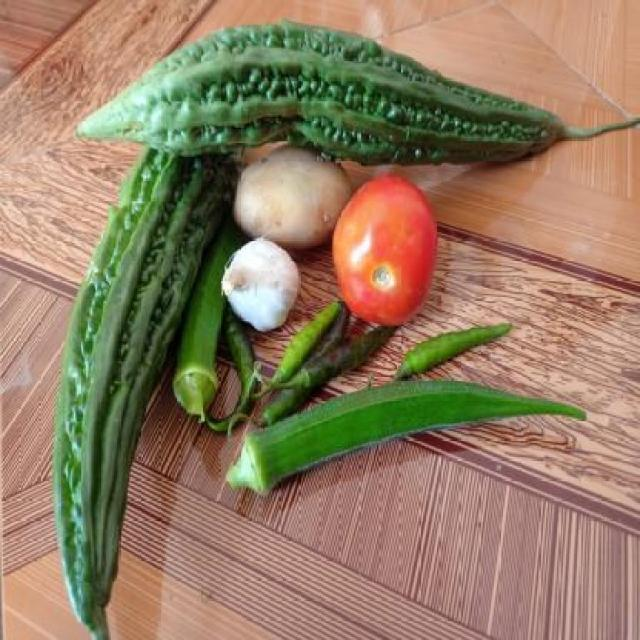Bitter melon: (74, 18, 566, 164), (44, 176, 196, 630)
Garlic: (223, 234, 300, 334)
Green Chili: (243, 328, 383, 424), (392, 324, 514, 378)
Lady finger: (228, 372, 596, 510), (174, 257, 226, 423)
Potato: (234, 144, 356, 253)
Tomato: (335, 172, 437, 325)
